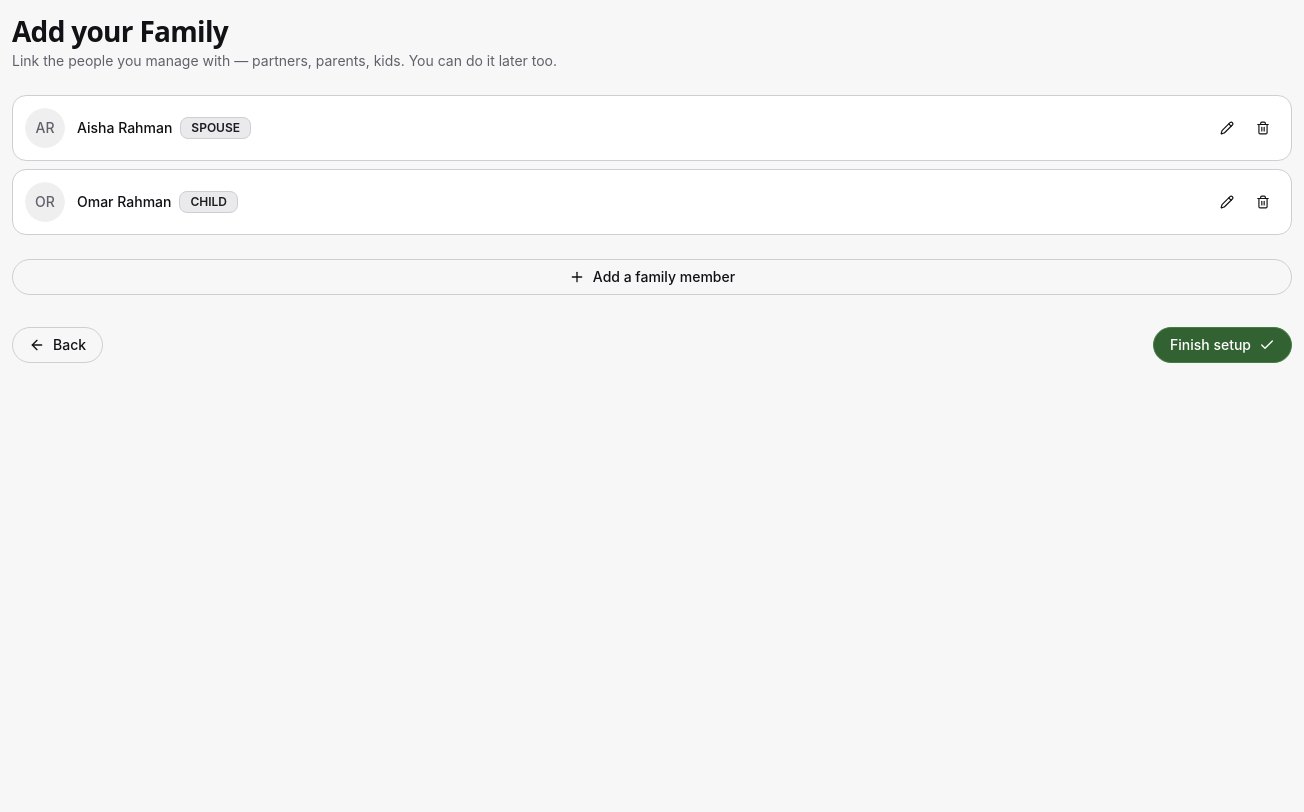
Test: OnboardStepFamily — seeded list › hides the edited member's card while its form is open, keeping the rest
This screenshot has width=1304, height=812.
Click the button named "Edit Aisha Rahman" at (1227, 128), box [1211,112,1243,144]
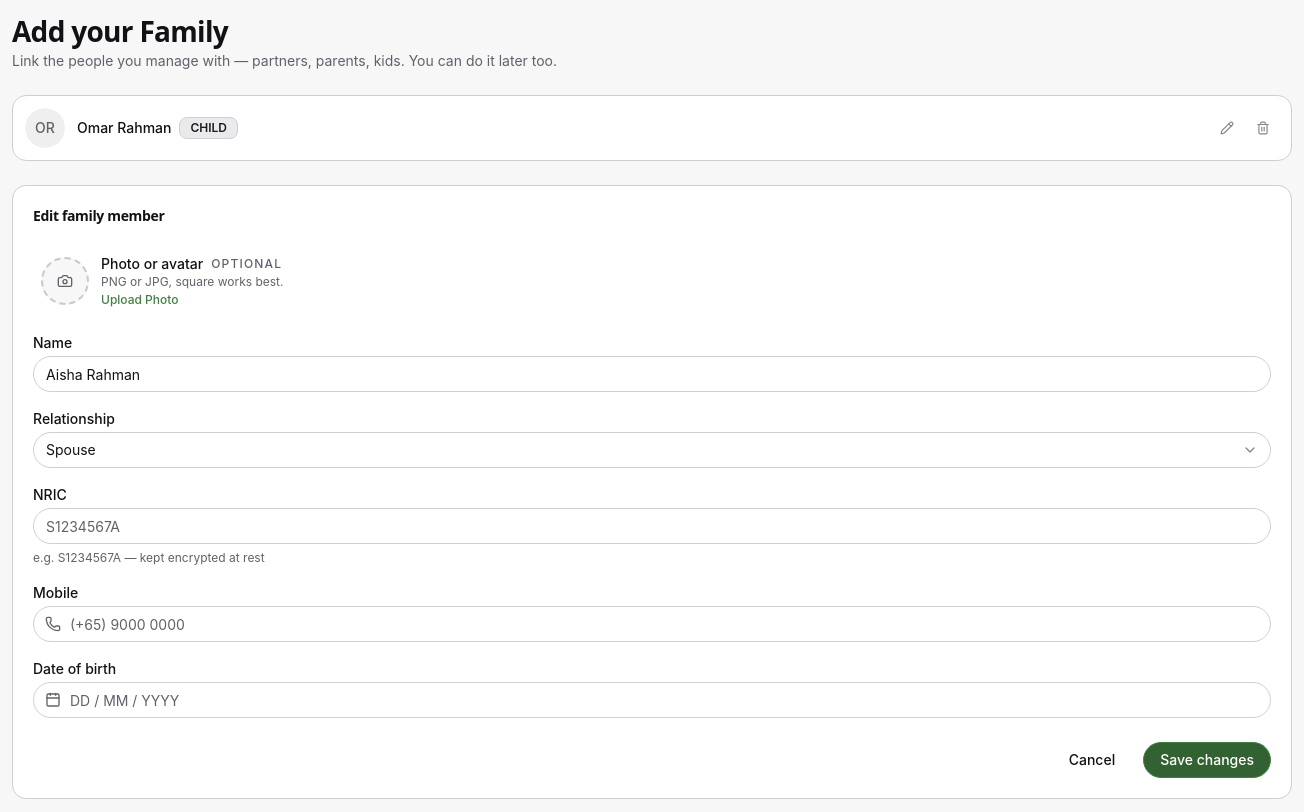
Check: the text "Omar Rahman" is shown, box [77,118,172,138]
Check: the heading "Edit family member" is shown, box [33,206,164,225]
Cancelling restores the hidden card.
Click the button "Cancel" at (1092, 760), box [1053,742,1131,778]
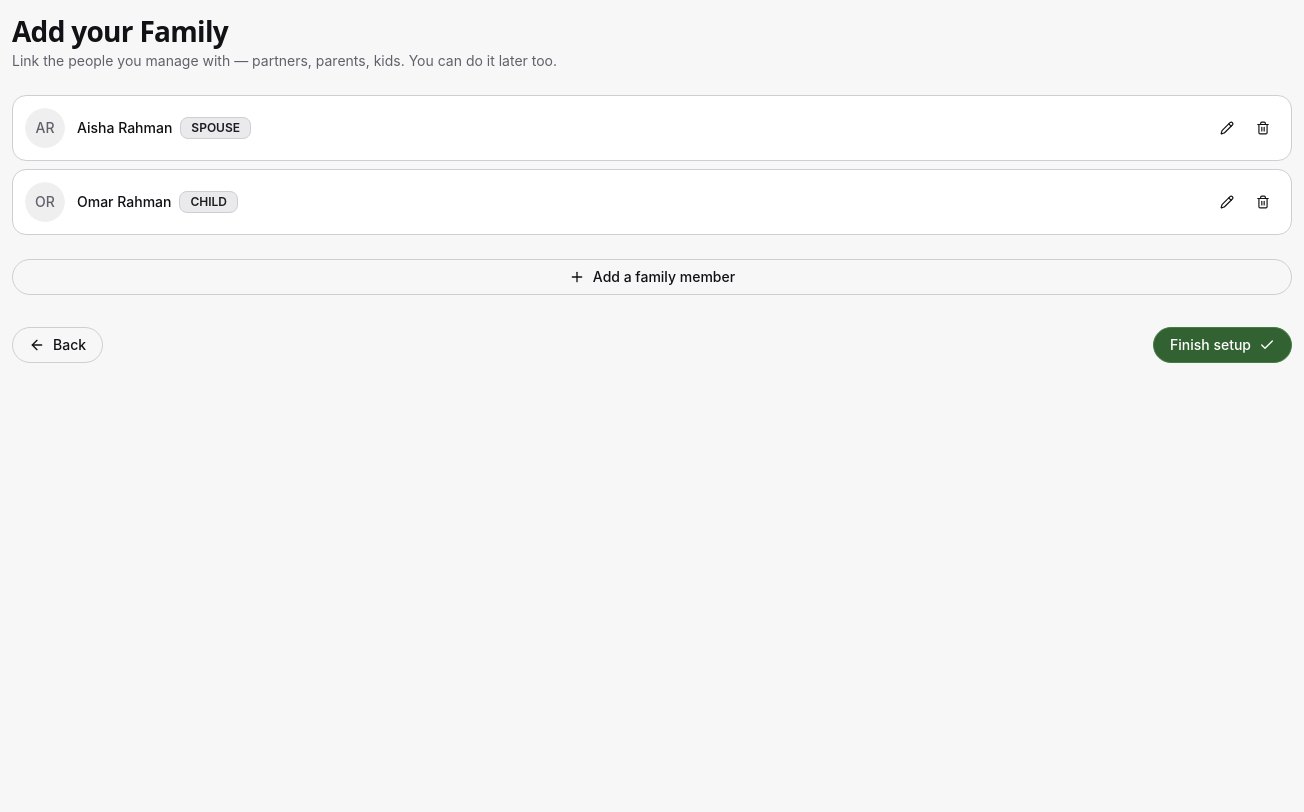
Check: the button named "Edit Aisha Rahman" is shown, box [1211,112,1243,144]
